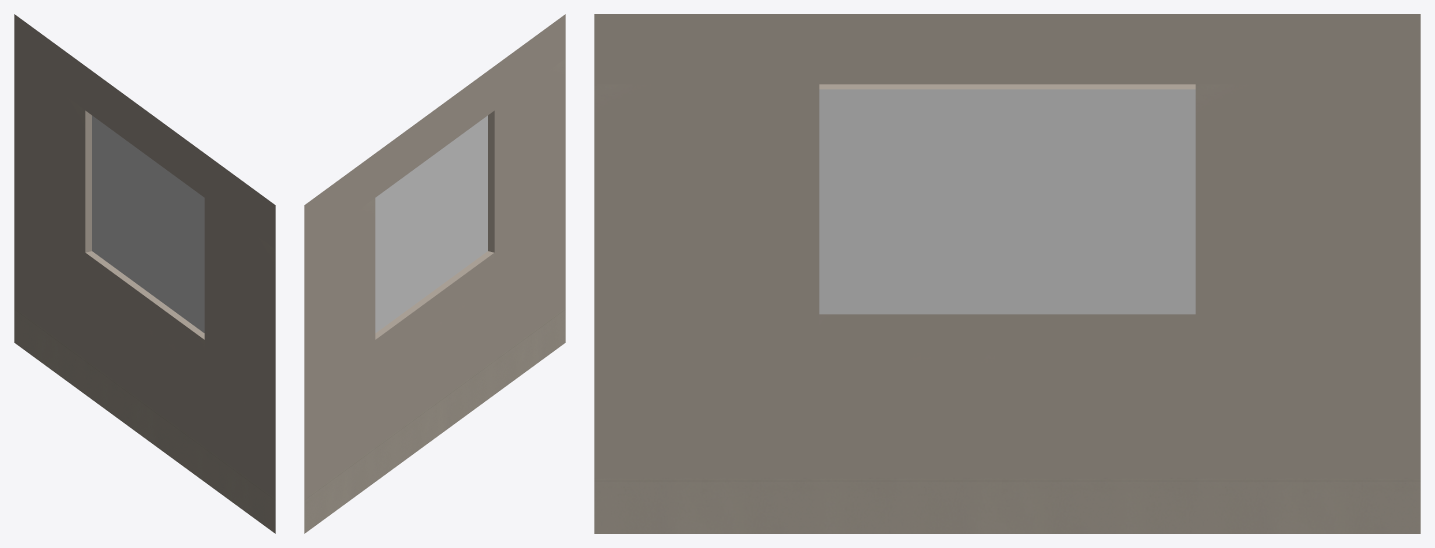
The model's file is ParedLEFT.fbx.
The picture shows the model from 3 angles, left to right: view 1: azimuth 30°, elevation 25°; view 2: azimuth 150°, elevation 25°; view 3: azimuth 270°, elevation 25°; orthographic projection. The views are drawn at different scales.
Parts seen in each view (by area): view 1: ParedLEFT; view 2: ParedLEFT; view 3: ParedLEFT.
Boxes of the visible parts, x1=… form: ParedLEFT: x1=14, y1=14, x2=275, y2=533; ParedLEFT: x1=304, y1=14, x2=565, y2=533; ParedLEFT: x1=594, y1=14, x2=1420, y2=533.
Size of the model in its own units: 18.03 by 862 by 1242.
